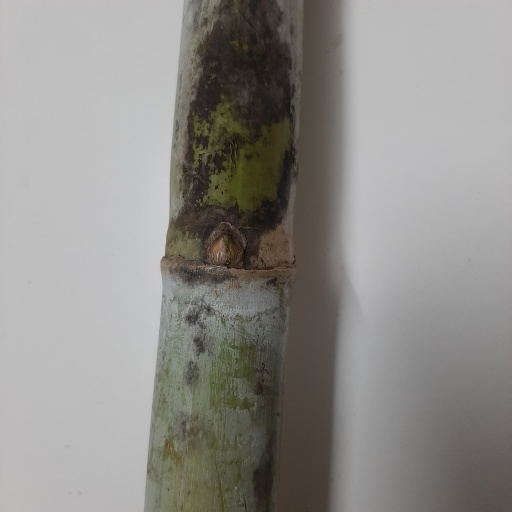Bud: (209, 228, 242, 267)
